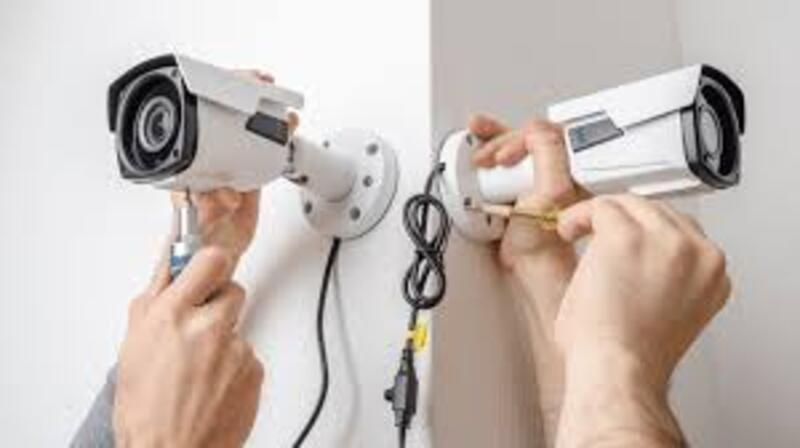bullet: (96, 56, 308, 216), (544, 58, 763, 210)
